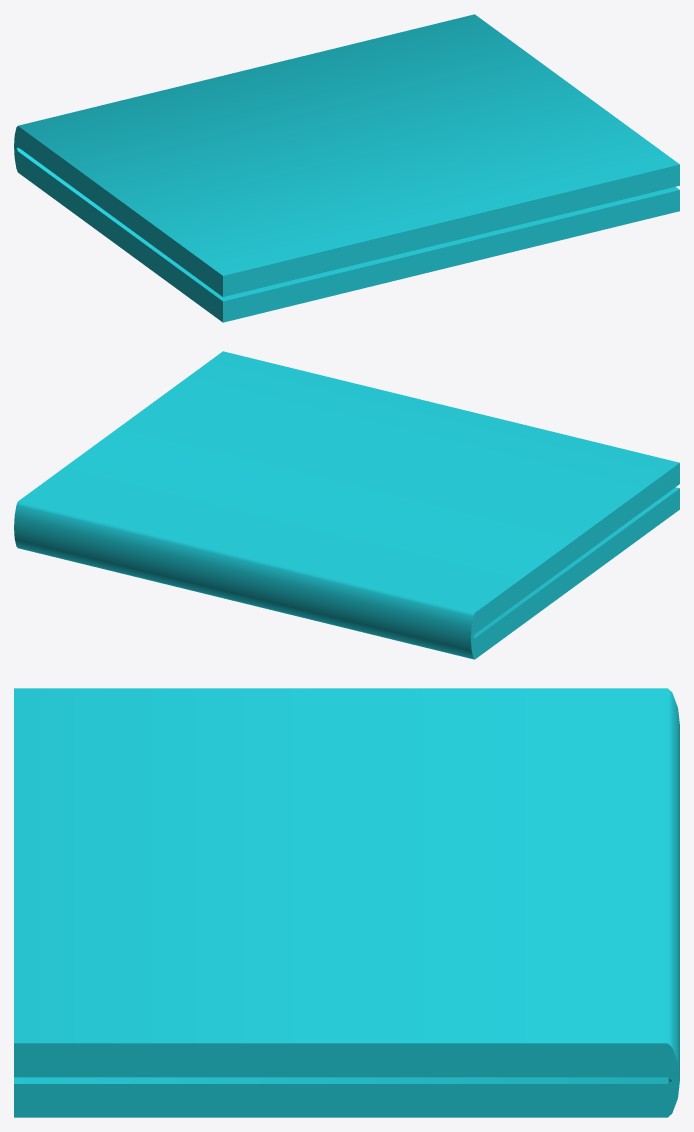
The model's file is HanddoekFolded.fbx.
The picture shows the model from 3 angles, top to bottom: view 1: azimuth 30°, elevation 25°; view 2: azimuth 150°, elevation 25°; view 3: azimuth 270°, elevation 25°; orthographic projection. The views are drawn at different scales.
Visible parts, largest first — view 1: Handdoek(Opgevouwen); view 2: Handdoek(Opgevouwen); view 3: Handdoek(Opgevouwen).
Part boxes in pixels (box(x1,y1,x2,y2)): Handdoek(Opgevouwen): box(14, 14, 679, 322); Handdoek(Opgevouwen): box(14, 351, 679, 659); Handdoek(Opgevouwen): box(14, 688, 679, 1117).
Size of the model in its own units: 45 by 4.4 by 35.66.
